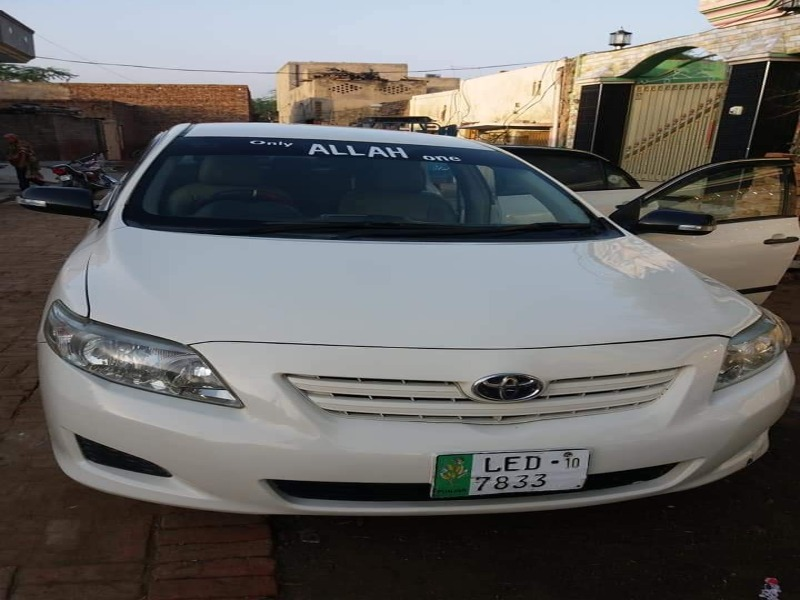License Plate: (427, 449, 593, 500)
